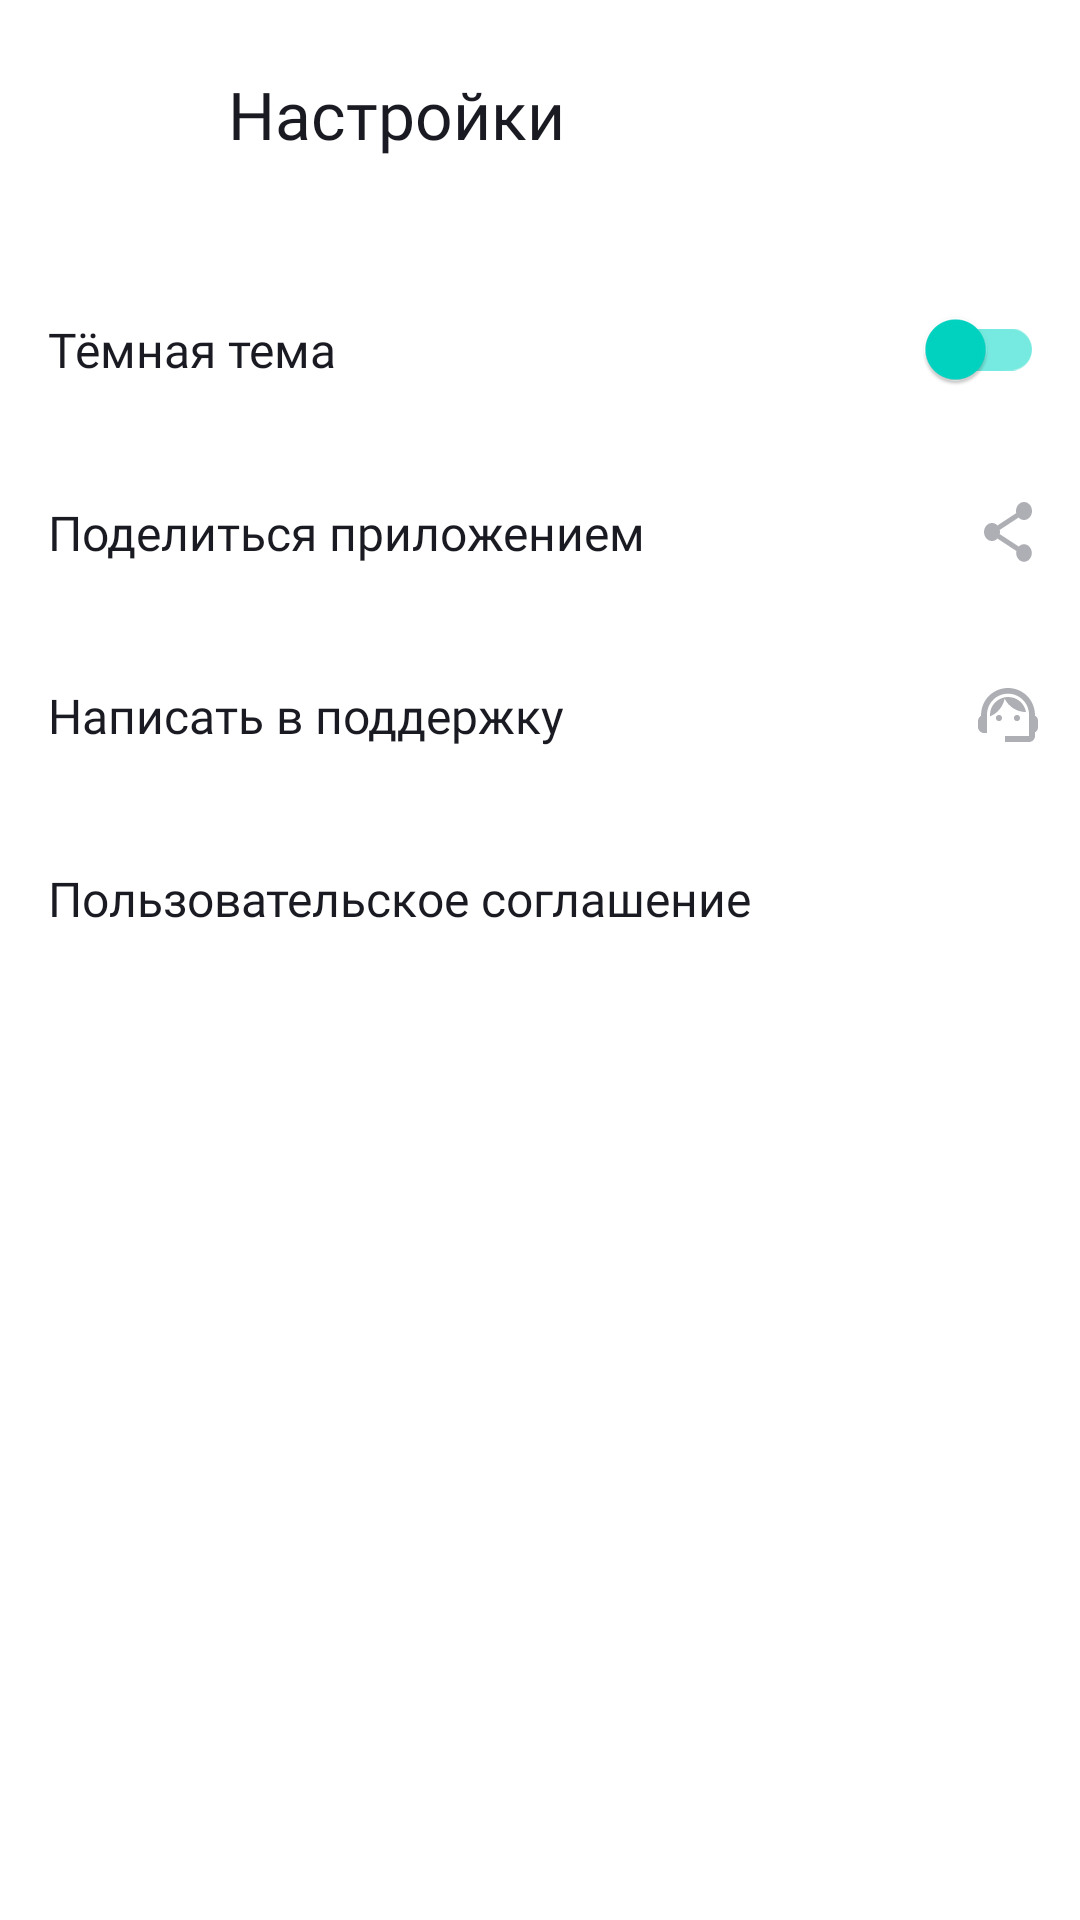

Icons on this 1080x1920 Android screen, each with the point to tap as [x,y]:
share: [1008,532]
support agent: [1008,715]
